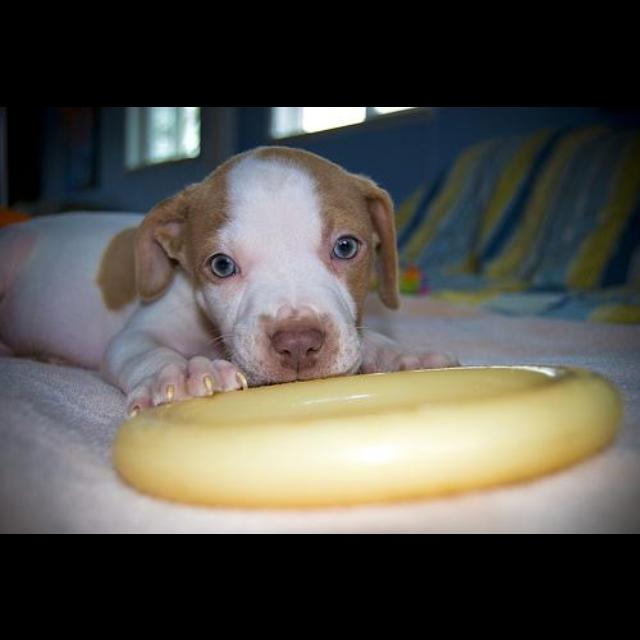amstaff: (3, 144, 462, 416)
